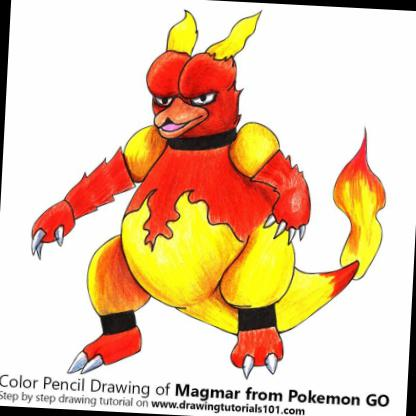Magmar: (1, 25, 416, 416)
